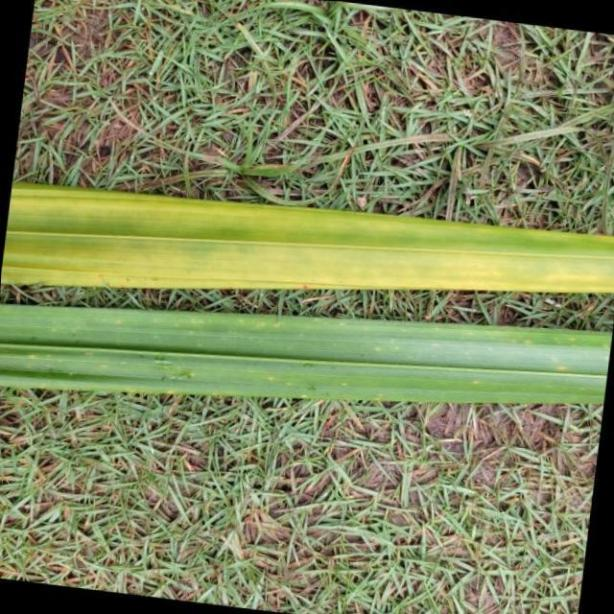nitrogen: (0, 294, 614, 405), (0, 182, 614, 291)
